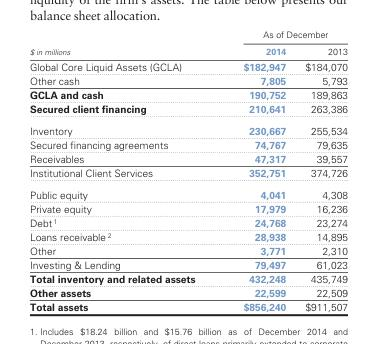table: (28, 28, 347, 312)
table column: (28, 28, 218, 312), (218, 28, 294, 312), (294, 28, 347, 312)
table column header: (28, 28, 347, 58)
table row: (28, 101, 347, 119), (28, 119, 347, 137), (28, 165, 347, 183), (28, 183, 347, 201), (28, 42, 347, 58), (28, 58, 347, 73), (28, 28, 347, 42), (28, 73, 347, 87), (28, 87, 347, 101), (28, 137, 347, 151), (28, 151, 347, 165), (28, 201, 347, 215), (28, 215, 347, 229), (28, 229, 347, 243), (28, 243, 347, 257), (28, 257, 347, 271), (28, 271, 347, 285), (28, 285, 347, 299), (28, 299, 347, 312)
table spanning cell: (28, 28, 218, 58), (218, 28, 347, 42)
